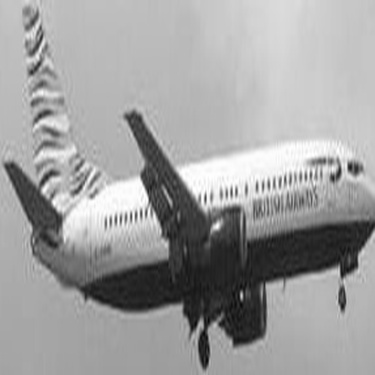airplane: (4, 5, 370, 373)
